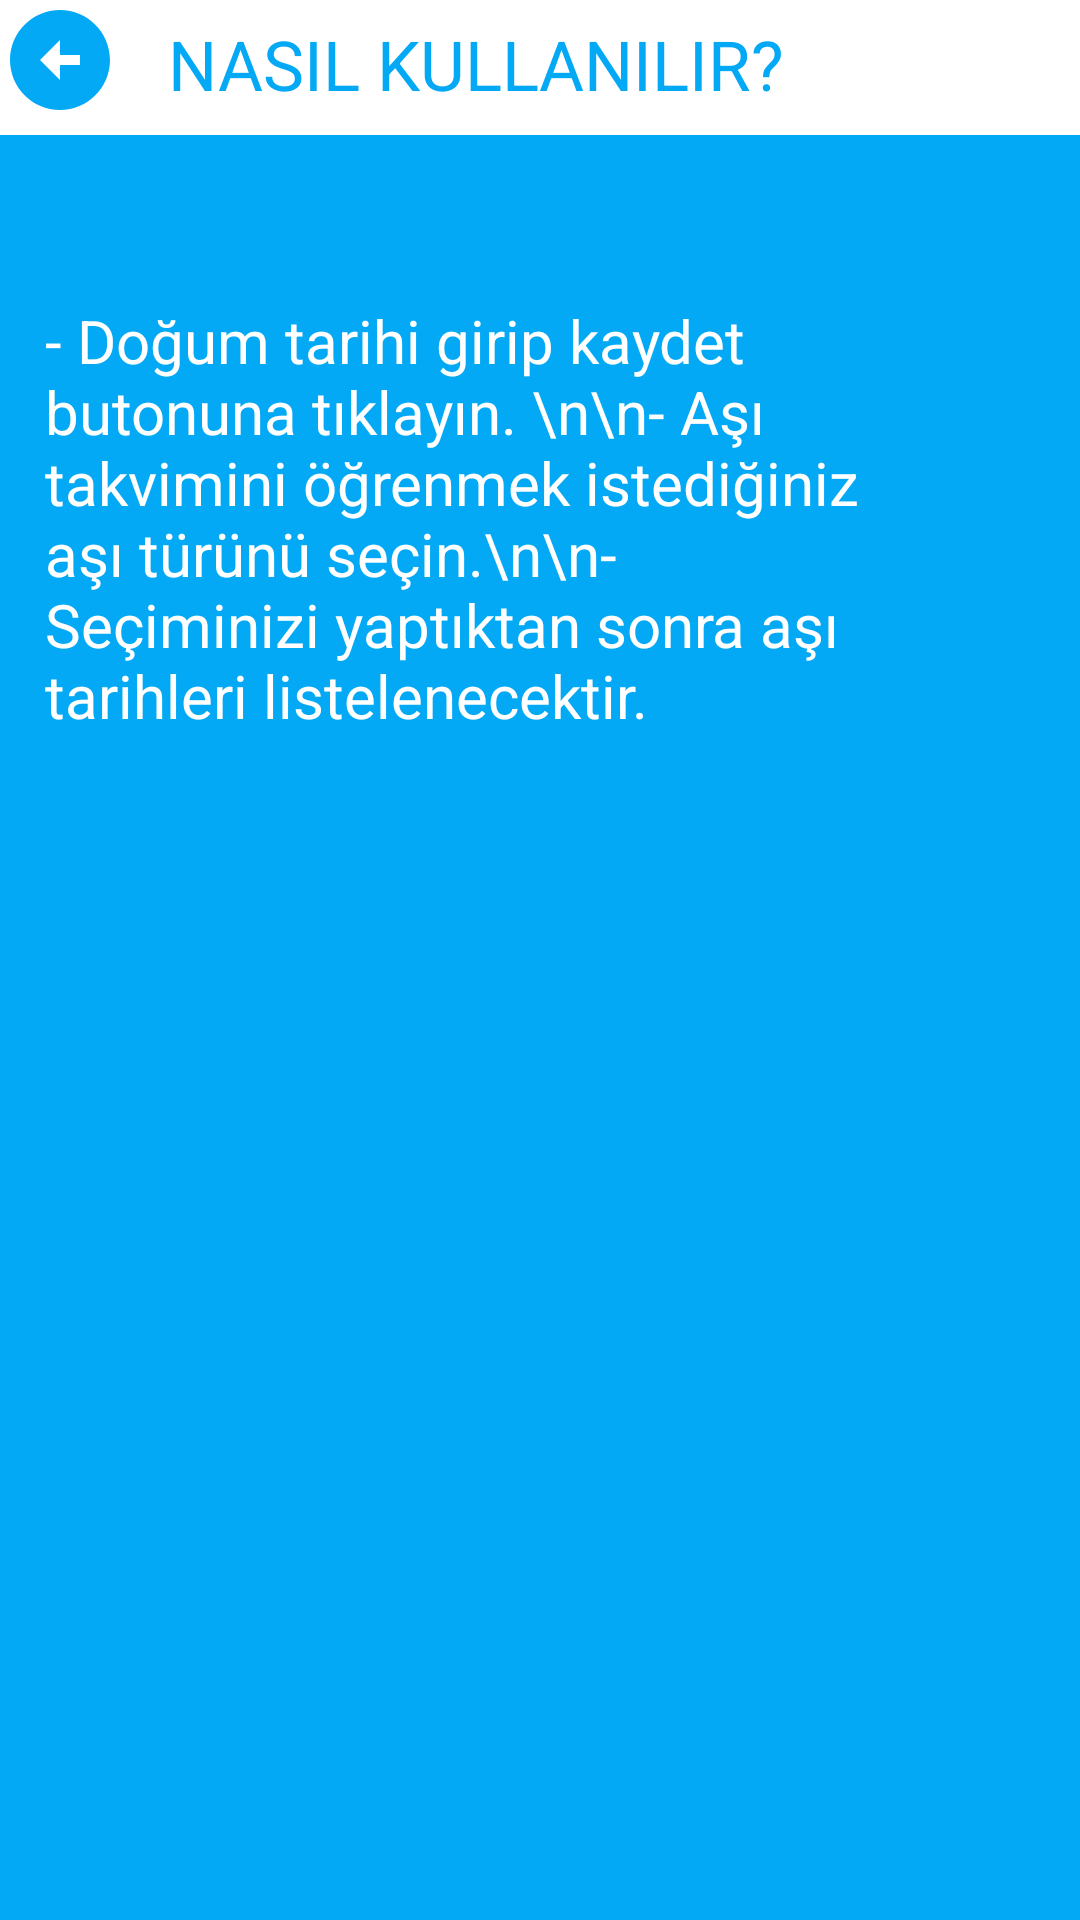

Where to tap for icons on this 1080px×1920px app screen, as (x,y):
left arrow: (60,60)
